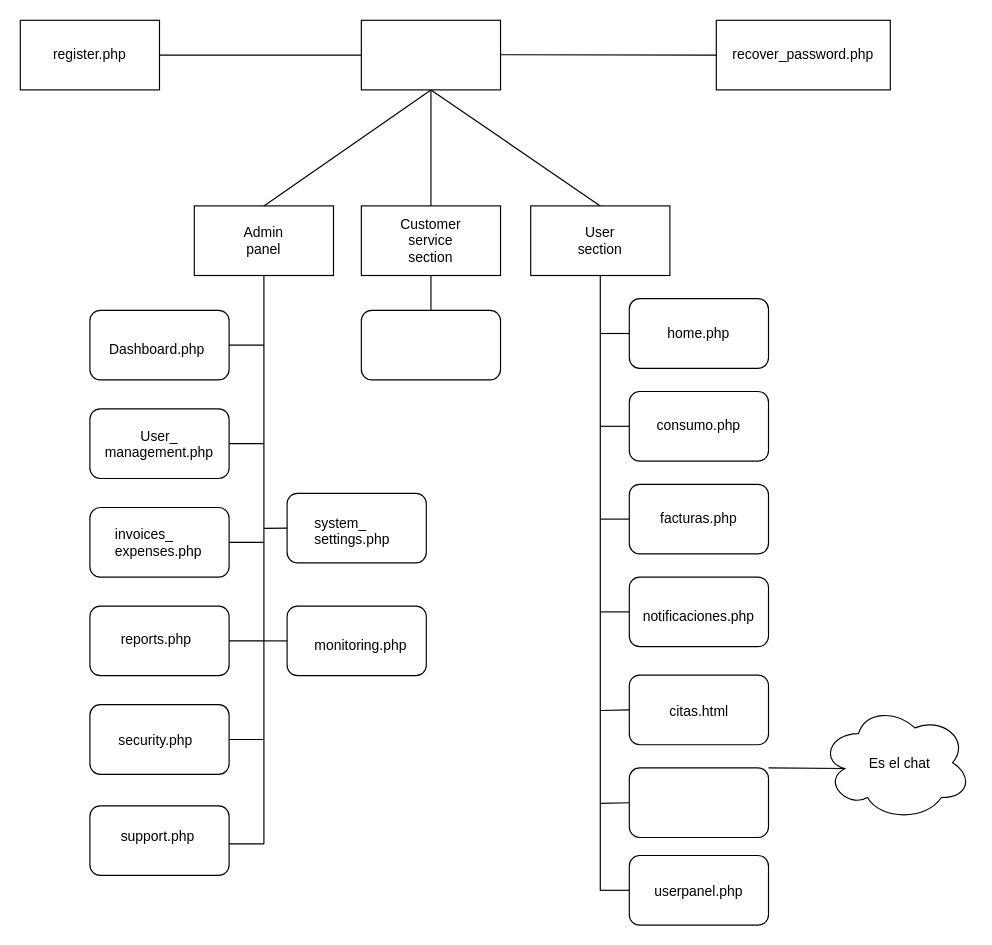
This 992x945 diagram has some shape labels left out. Here are the shapes that lost their labels. From the top down, the box of each, then its label:
(360, 19, 501, 90): Index.php
(360, 309, 501, 380): customer servicechat.php
(628, 767, 768, 838): modoaccesible.html
